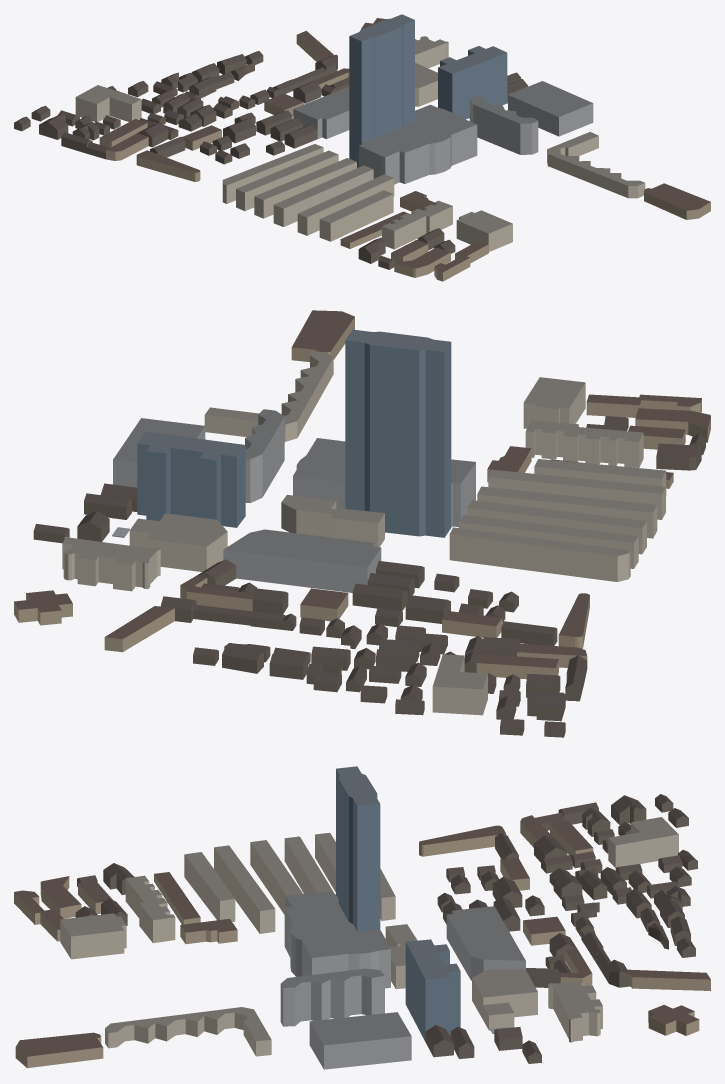
File: tile_0_6.glb
3 views of the same model, one above another, from view 1: azimuth 30°, elevation 25°; view 2: azimuth 150°, elevation 25°; view 3: azimuth 270°, elevation 25° (orthographic). The views are drawn at different scales.
Visible parts, largest first — view 1: HP-w757506897, HP-w757506896, HP-w442103696, HP-w436081697, HP-w436081695, HP-w1202561785, HP-w757510114, HP-w757510112, HP-w757502020, HP-w1157149577, HP-w1200741188, HP-w757510113 (+27 smaller); view 2: HP-w757506897, HP-w442103696, HP-w1157149577, HP-w757510117, HP-w757506896, HP-w757502020, HP-w449067894, HP-w1202561785, HP-w449067893, HP-w757506898, HP-w757510113, HP-w757510114 (+35 smaller); view 3: HP-w757506897, HP-w757506896, HP-w436081695, HP-w436081697, HP-w442103696, HP-w1202561785, HP-w1157149577, HP-w757502015, HP-w1200741188, HP-w449067894, HP-w757510113, HP-w449067893 (+35 smaller).
Boxes of the visible parts, x1,y1,x2,y2 form: HP-w757506897: (349, 14, 414, 167); HP-w757506896: (359, 104, 477, 184); HP-w442103696: (438, 46, 507, 119); HP-w436081697: (508, 81, 593, 136); HP-w436081695: (469, 95, 538, 154); HP-w1202561785: (547, 132, 645, 198); HP-w757510114: (273, 165, 373, 226); HP-w757510112: (319, 190, 393, 241); HP-w757502020: (382, 200, 452, 249); HP-w1157149577: (293, 86, 349, 139); HP-w1200741188: (75, 85, 141, 121); HP-w757510113: (297, 174, 394, 235); HP-w757506897: (345, 329, 451, 537); HP-w442103696: (137, 431, 245, 527); HP-w1157149577: (223, 529, 381, 592); HP-w757510117: (449, 527, 630, 581); HP-w757506896: (293, 438, 475, 527); HP-w757502020: (525, 420, 643, 467); HP-w449067894: (62, 536, 160, 591); HP-w1202561785: (204, 351, 333, 441); HP-w449067893: (147, 513, 227, 571); HP-w757506898: (281, 495, 384, 547); HP-w757510113: (488, 469, 665, 519); HP-w757510114: (477, 486, 657, 538); HP-w757506897: (336, 766, 380, 931); HP-w757506896: (284, 891, 390, 988); HP-w436081695: (280, 968, 384, 1026); HP-w436081697: (309, 1012, 411, 1069); HP-w442103696: (405, 939, 460, 1041); HP-w1202561785: (105, 1007, 271, 1056); HP-w1157149577: (446, 906, 525, 980); HP-w757502015: (60, 913, 126, 959); HP-w1200741188: (608, 817, 678, 867); HP-w449067894: (548, 981, 602, 1042); HP-w757510113: (214, 845, 275, 933); HP-w449067893: (472, 969, 537, 1019).
Bounding box in the file's own units: 448 × 129 × 497.
